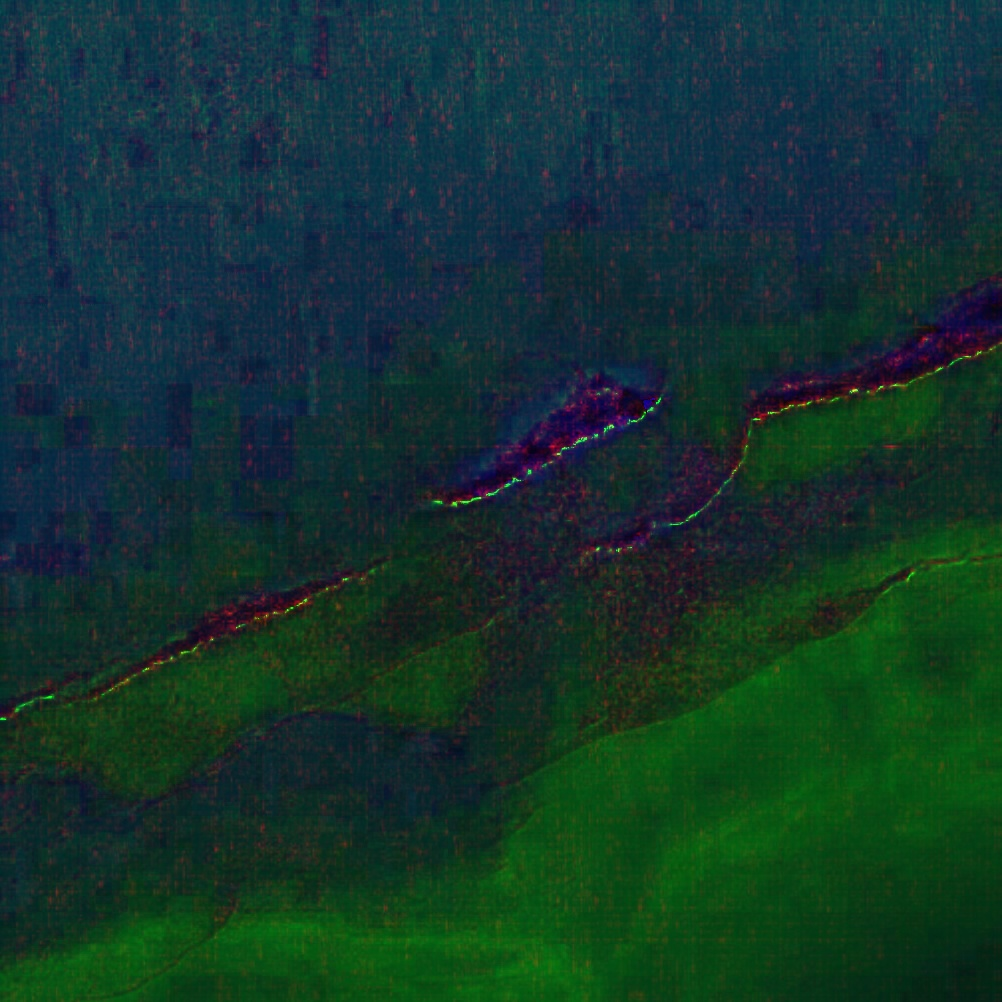rip_current: (384, 315, 694, 716)
